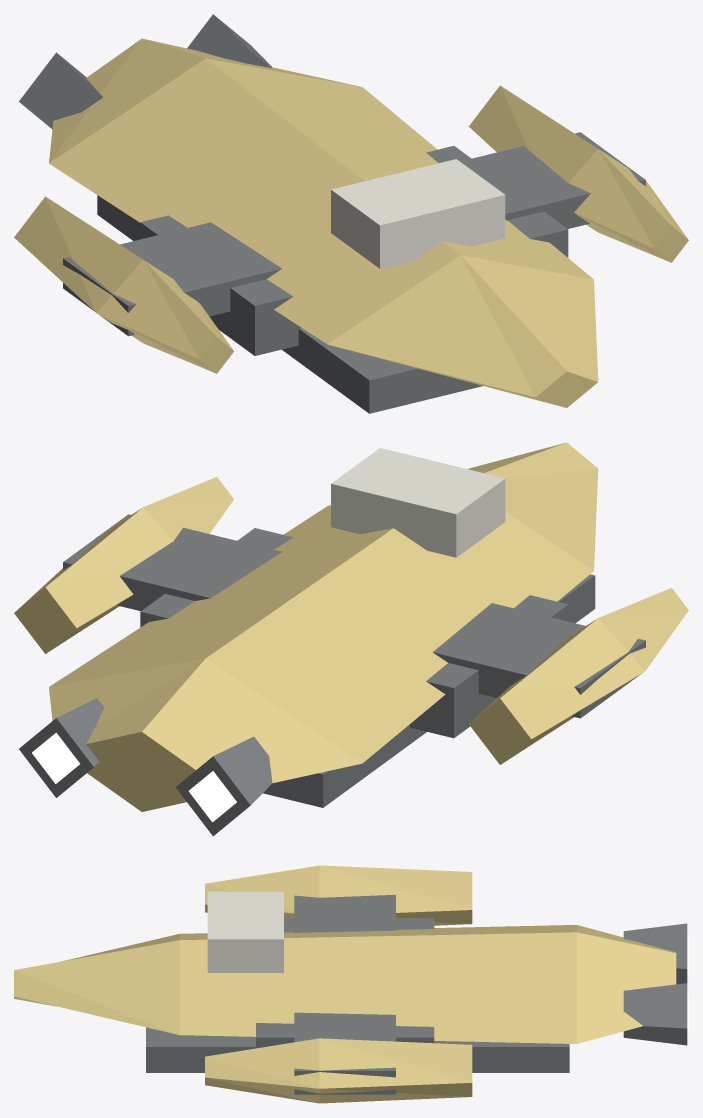
3 renders of one model, top to bottom at view 1: azimuth 30°, elevation 25°; view 2: azimuth 150°, elevation 25°; view 3: azimuth 270°, elevation 25°, orthographic. The views are drawn at different scales.
Size of the model in its own units: 7.21 by 1.95 by 9.86.
